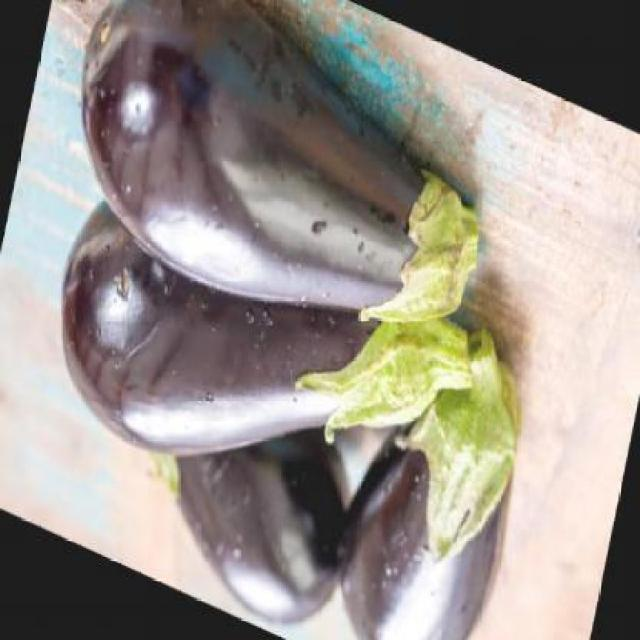eggplant: (35, 151, 483, 584), (47, 1, 482, 330), (322, 306, 540, 639), (123, 350, 368, 638)
